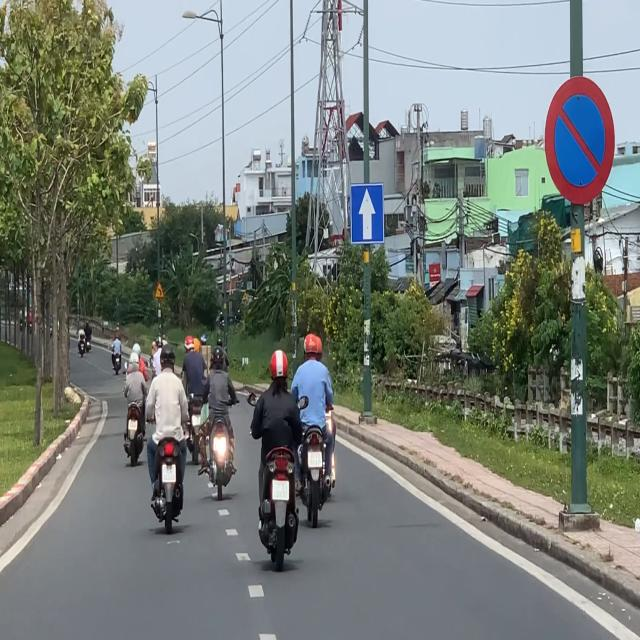Cam do: (544, 76, 614, 206)
Chi dan: (350, 181, 386, 246)
Nguy hiem: (154, 281, 165, 300)
